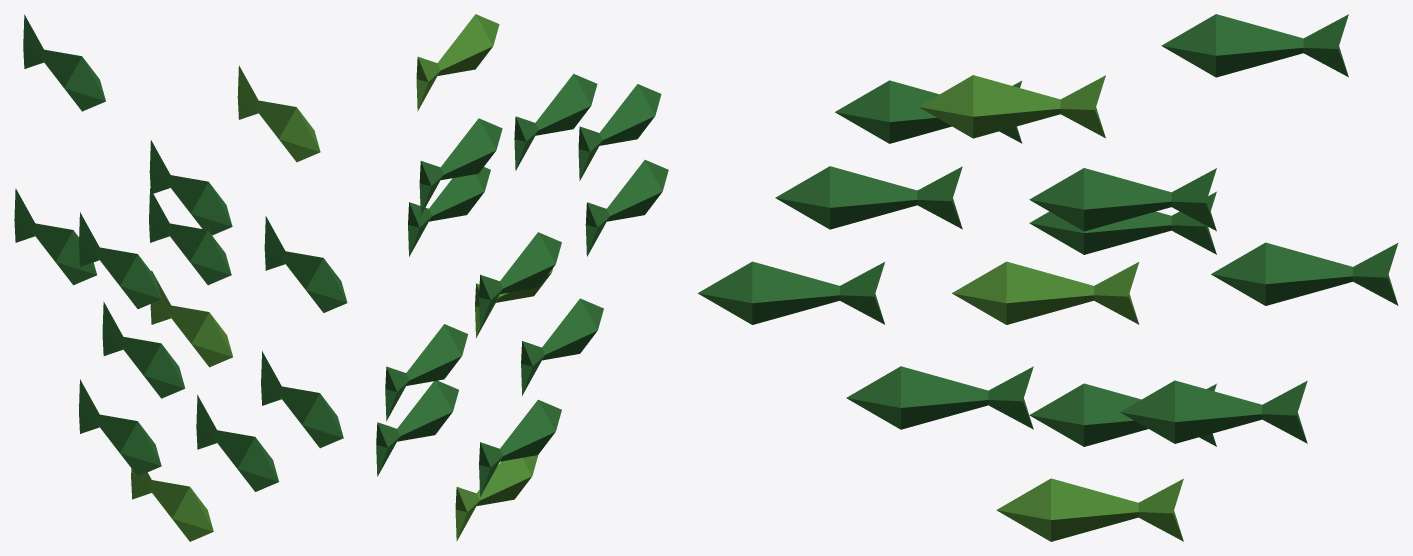
The model's file is fish-swarm.glb.
The picture shows the model from 3 angles, left to right: view 1: azimuth 30°, elevation 25°; view 2: azimuth 150°, elevation 25°; view 3: azimuth 270°, elevation 25°; orthographic projection. The views are drawn at different scales.
Parts seen in each view (by area): view 1: fish-swarm; view 2: fish-swarm; view 3: fish-swarm.
Part boxes in pixels (x1,y1,x2,y2): fish-swarm: (14,14,347,541); fish-swarm: (376,14,668,541); fish-swarm: (697,14,1398,541).
Size of the model in its own units: 0.6568 by 1.72 by 2.16.
Materials: 1 (1 with a texture image).
